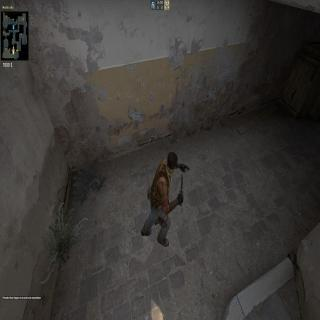T-Head: (166, 150, 178, 173)
